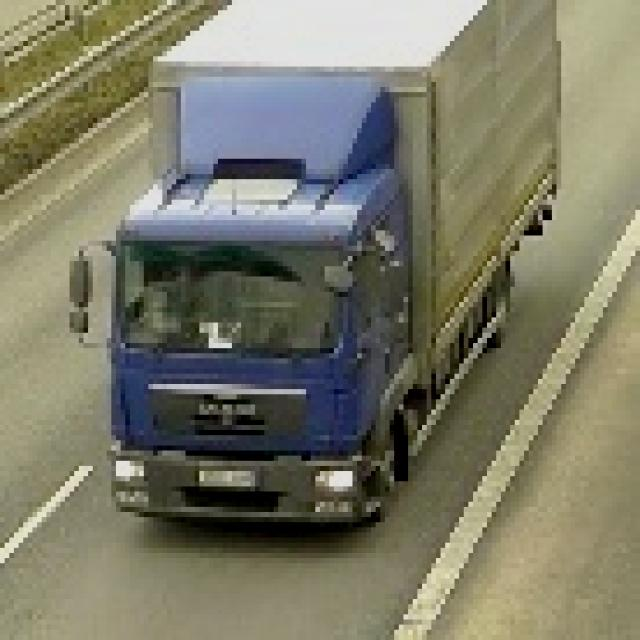truck: (66, 1, 562, 533)
